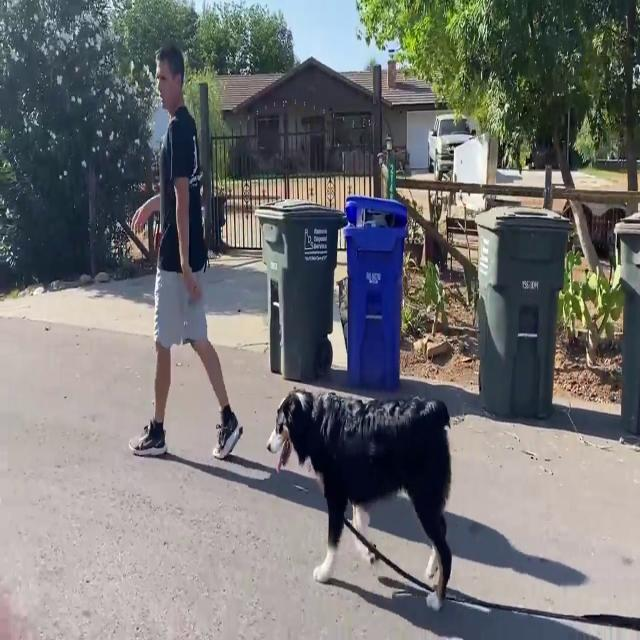Unleashed_Dog: (160, 271, 454, 615)
